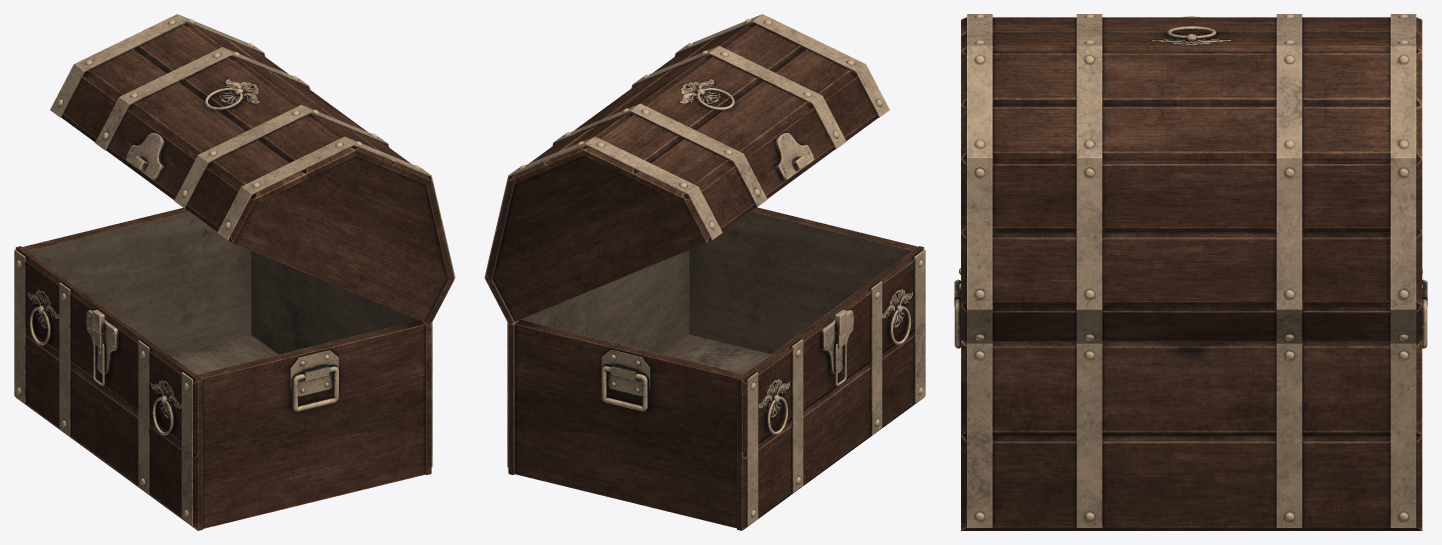
File: treasure_chest.glb
3 renders of one model, left to right at view 1: azimuth 30°, elevation 25°; view 2: azimuth 150°, elevation 25°; view 3: azimuth 270°, elevation 25°, orthographic. The views are drawn at different scales.
Visible parts, largest first — view 1: Box032; view 2: Box032; view 3: Box032.
Boxes of the visible parts, bbox=[...] form: Box032: bbox=[14, 14, 455, 530]; Box032: bbox=[484, 14, 925, 530]; Box032: bbox=[954, 14, 1427, 530].
Bounding box in the file's own units: 56.49 × 69.07 × 67.57.
1 material, 1 textured.
